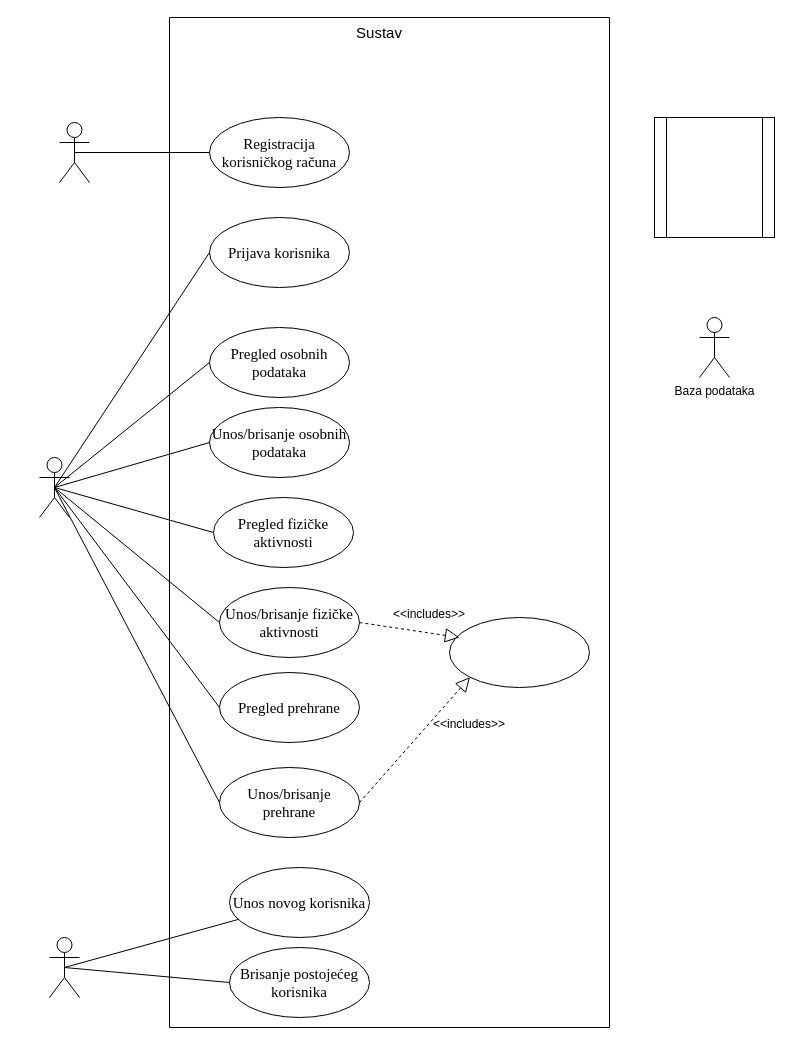
The diagram is 792 pixels wide and 1045 high, and some of its shapes have lost their labels. Each missing label, with the centre of its shape:
"Administrator" belongs at point (64, 967).
"Korisnik" belongs at point (54, 487).
"Neregistrirani korisnik" belongs at point (74, 152).
"Odabir kalorija" belongs at point (519, 652).
"Svi obrasci uporabe komuniciraju s bazom podataka" belongs at point (714, 177).
